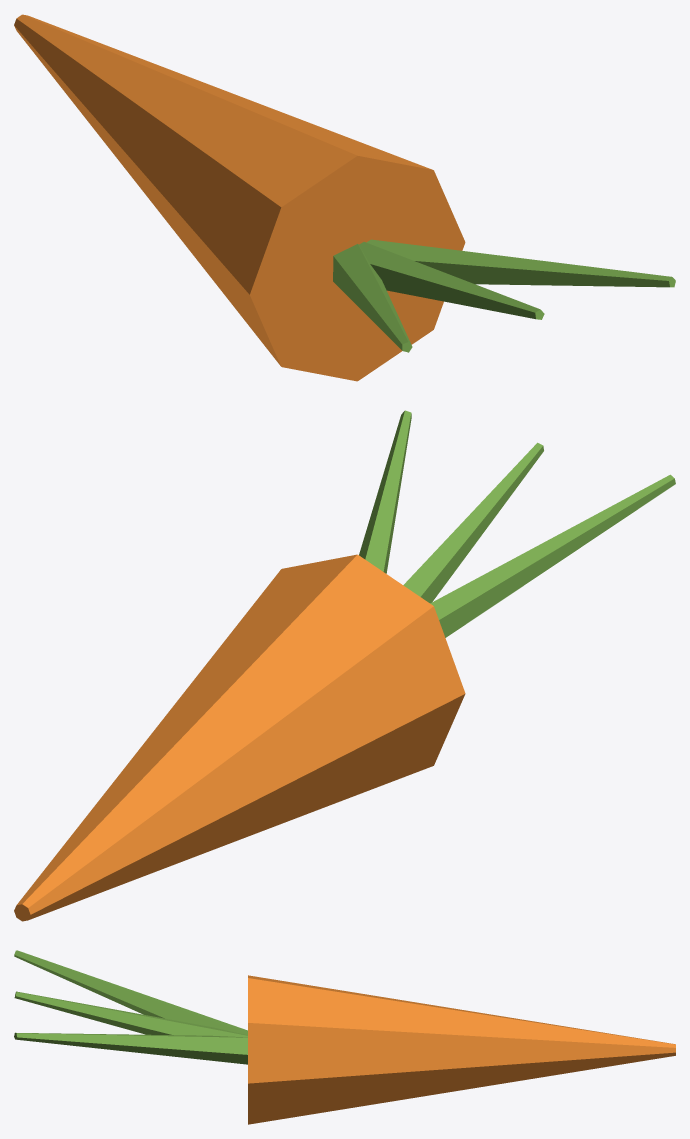
File: Carrot.fbx
3 renders of one model, top to bottom at view 1: azimuth 30°, elevation 25°; view 2: azimuth 150°, elevation 25°; view 3: azimuth 270°, elevation 25°, orthographic. The views are drawn at different scales.
Parts seen in each view (by area): view 1: Carrot.001, Leaf-1, Leaf0, Leaf1; view 2: Carrot.001, Leaf1, Leaf0, Leaf-1; view 3: Carrot.001, Leaf-1, Leaf1, Leaf0.
Boxes of the visible parts, bbox=[...] form: Carrot.001: bbox=[14, 14, 465, 381]; Leaf-1: bbox=[366, 239, 675, 287]; Leaf0: bbox=[359, 242, 544, 319]; Leaf1: bbox=[333, 244, 412, 352]; Carrot.001: bbox=[14, 554, 465, 921]; Leaf1: bbox=[430, 474, 675, 637]; Leaf0: bbox=[403, 442, 543, 603]; Leaf-1: bbox=[359, 410, 411, 573]; Carrot.001: bbox=[248, 975, 675, 1124]; Leaf-1: bbox=[14, 1032, 247, 1064]; Leaf1: bbox=[14, 950, 247, 1035]; Leaf0: bbox=[14, 991, 247, 1037].
Bounding box in the file's own units: 0.1652 × 0.13 × 0.5413.
